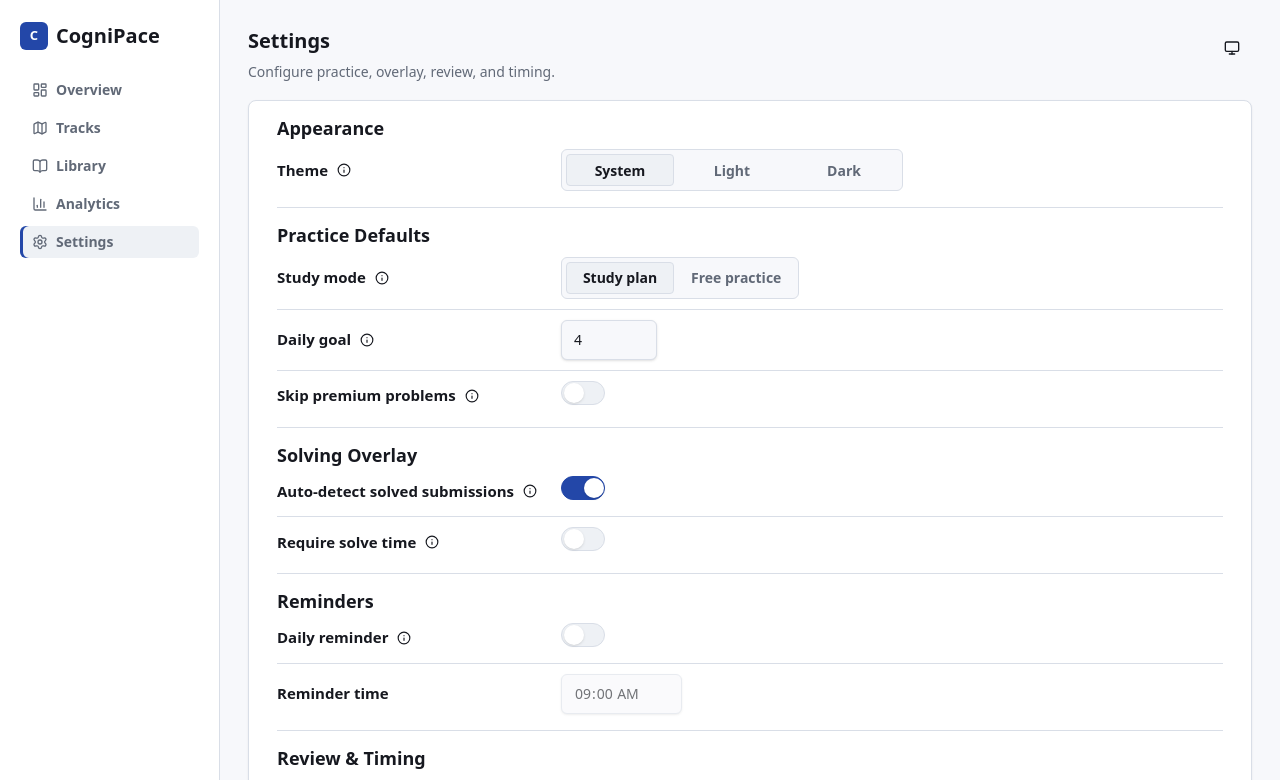
Scenario: dashboard routes › navigates from Settings to Overview through the brand link
Expected: the heading "Settings" is shown, [248,27,330,54]
Click the link with aria-label "Open Overview". click: {"x": 90, "y": 36}
box: [20,22,160,50]
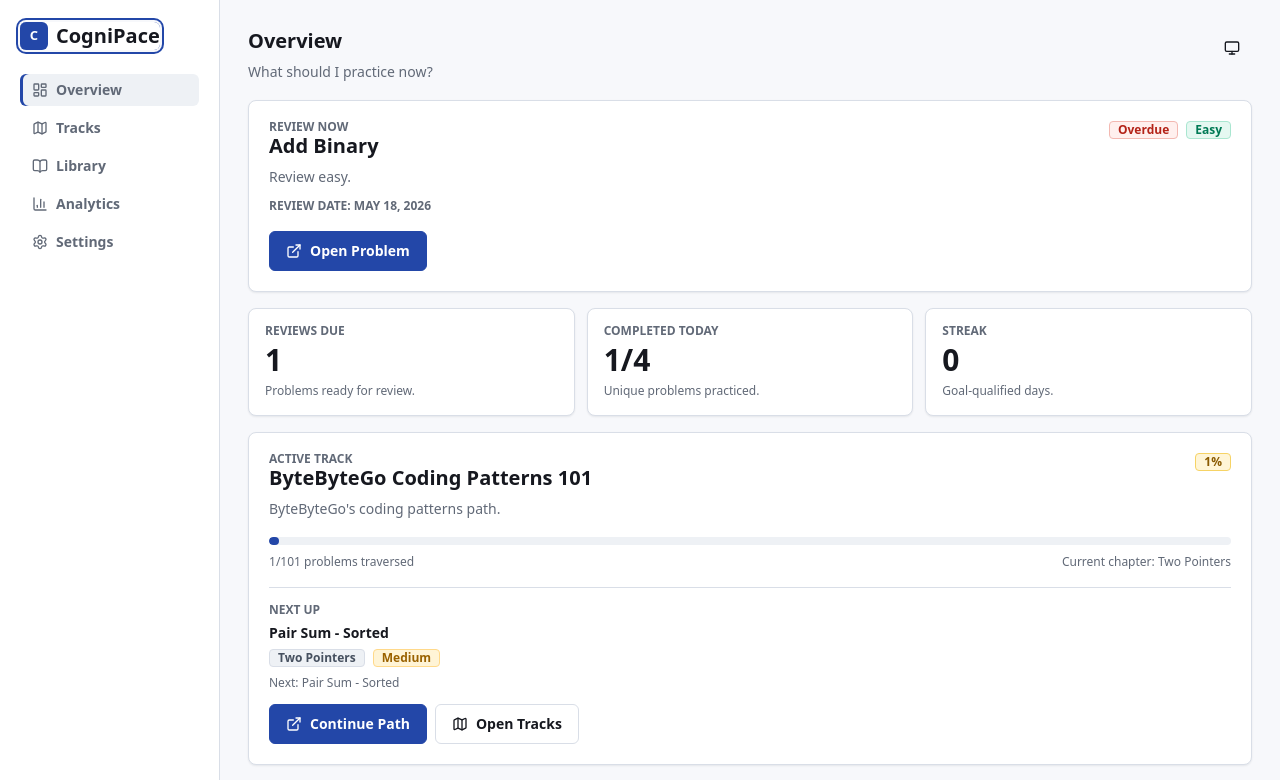
Expected: the heading "Overview" is shown, [248,27,342,54]
